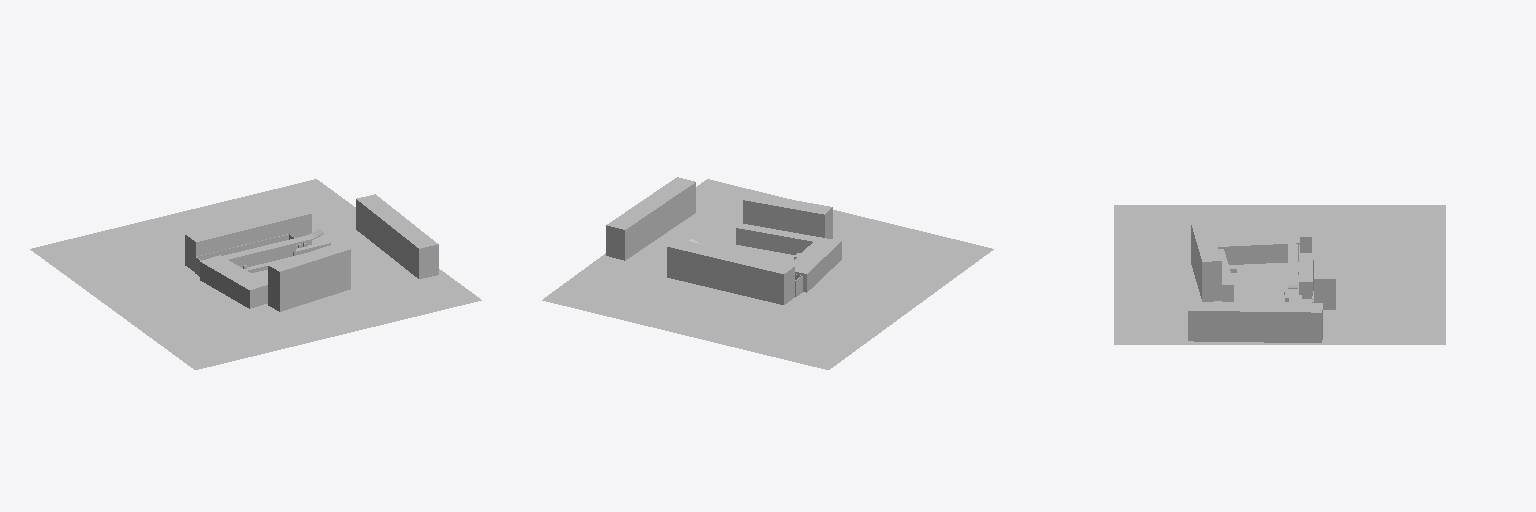
The model's file is basic blockout map.obj.
The picture shows the model from 3 angles: view 1: azimuth 30°, elevation 25°; view 2: azimuth 150°, elevation 25°; view 3: azimuth 270°, elevation 25°; orthographic projection.
Parts seen in each view (by area): view 1: Plane, Cube.003, Cube.015, Cube.009, Cube.001, Cube.005, Cube.004; view 2: Plane, Cube.009, Cube.015, Cube.003, Cube.001, Cube.002; view 3: Plane, Cube.015, Cube.001, Cube.003, Cube.009, Cube.005.
Part boxes in pixels (left/top/right/bottom): Plane: left=30, top=179, right=481, bottom=369; Cube.003: left=268, top=243, right=350, bottom=311; Cube.015: left=356, top=194, right=438, bottom=278; Cube.009: left=185, top=205, right=311, bottom=271; Cube.001: left=200, top=255, right=267, bottom=308; Cube.005: left=195, top=234, right=295, bottom=276; Cube.004: left=222, top=229, right=323, bottom=259; Plane: left=542, top=179, right=993, bottom=369; Cube.009: left=667, top=239, right=794, bottom=304; Cube.015: left=606, top=177, right=695, bottom=260; Cube.003: left=743, top=192, right=832, bottom=238; Cube.001: left=790, top=237, right=841, bottom=292; Cube.002: left=736, top=223, right=817, bottom=254; Plane: left=1114, top=205, right=1445, bottom=344; Cube.015: left=1188, top=301, right=1322, bottom=342; Cube.001: left=1215, top=233, right=1299, bottom=264; Cube.003: left=1191, top=223, right=1221, bottom=301; Cube.009: left=1313, top=223, right=1335, bottom=309; Cube.005: left=1299, top=236, right=1312, bottom=298.
Size of the model in its own units: 184 by 26.28 by 184.